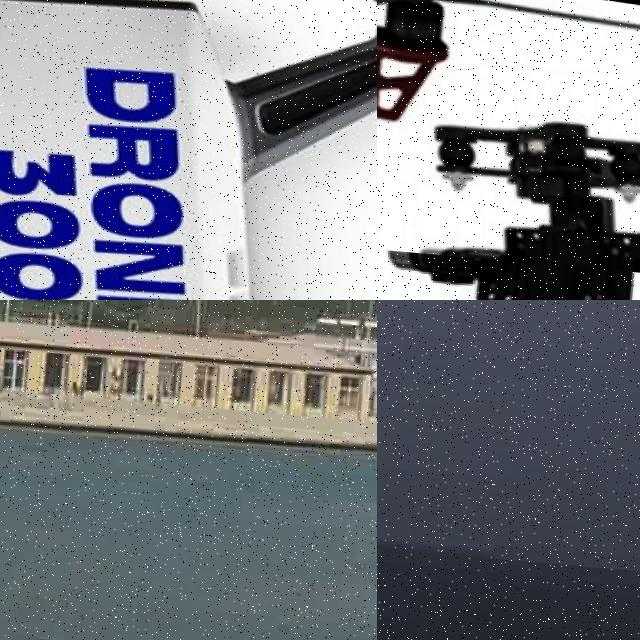drone: (0, 0, 377, 300), (377, 0, 640, 275)
